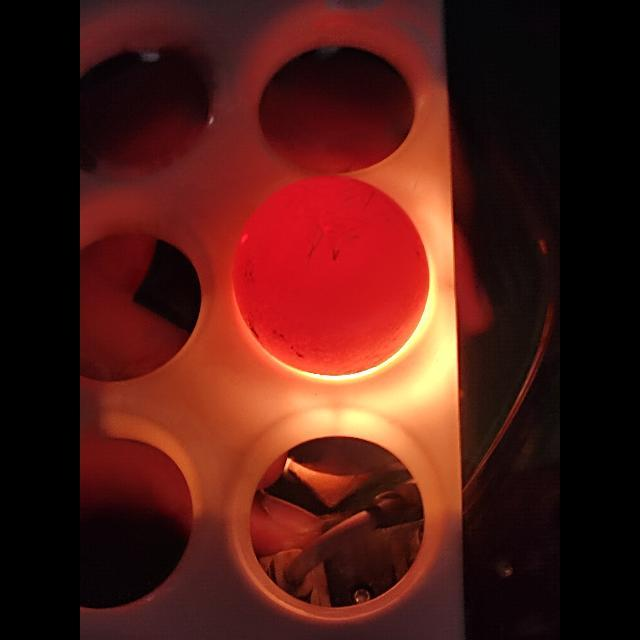Infertile: (239, 174, 429, 370)
